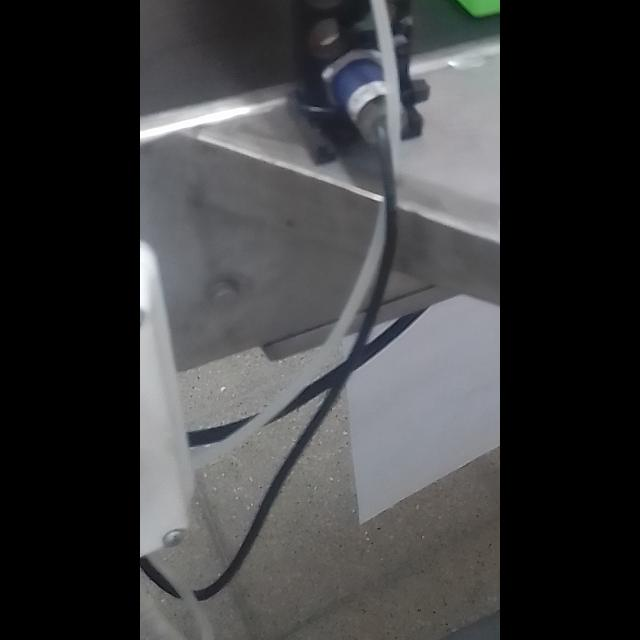greenBox: (416, 0, 500, 30)
